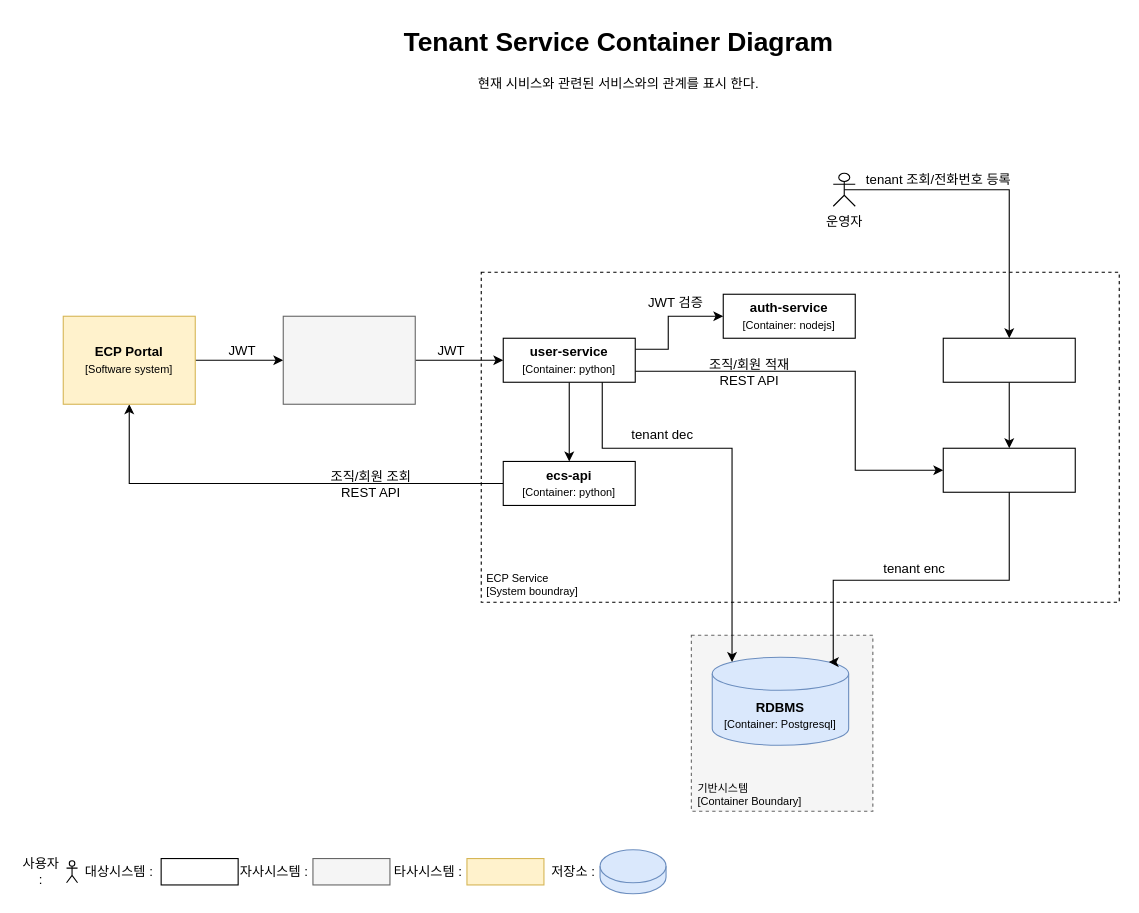
Image size: 1139x913. Some labels were removed from this diagram. The centre of each missing label's shape, as x and y in pixels:
"tenant-mgmt [Container: python]" goes at point 1008,469.
"tenant-mgmt-wb [Container: nodejs]" goes at point 1008,359.
"내부 시스템 [Software system]" goes at point 348,359.
